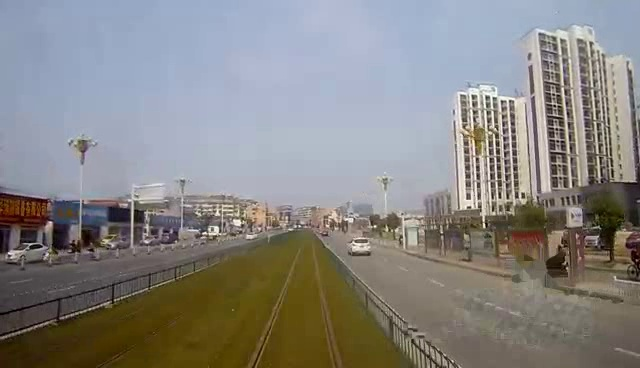car: (7, 243, 56, 266), (347, 234, 373, 257)
